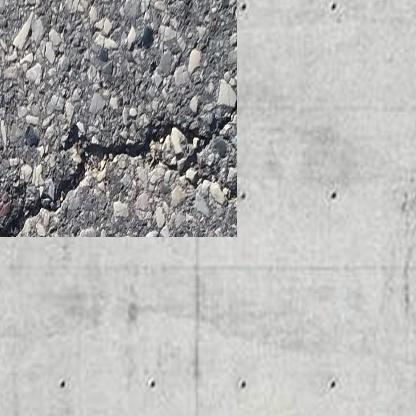Cracks: (0, 85, 219, 219)
